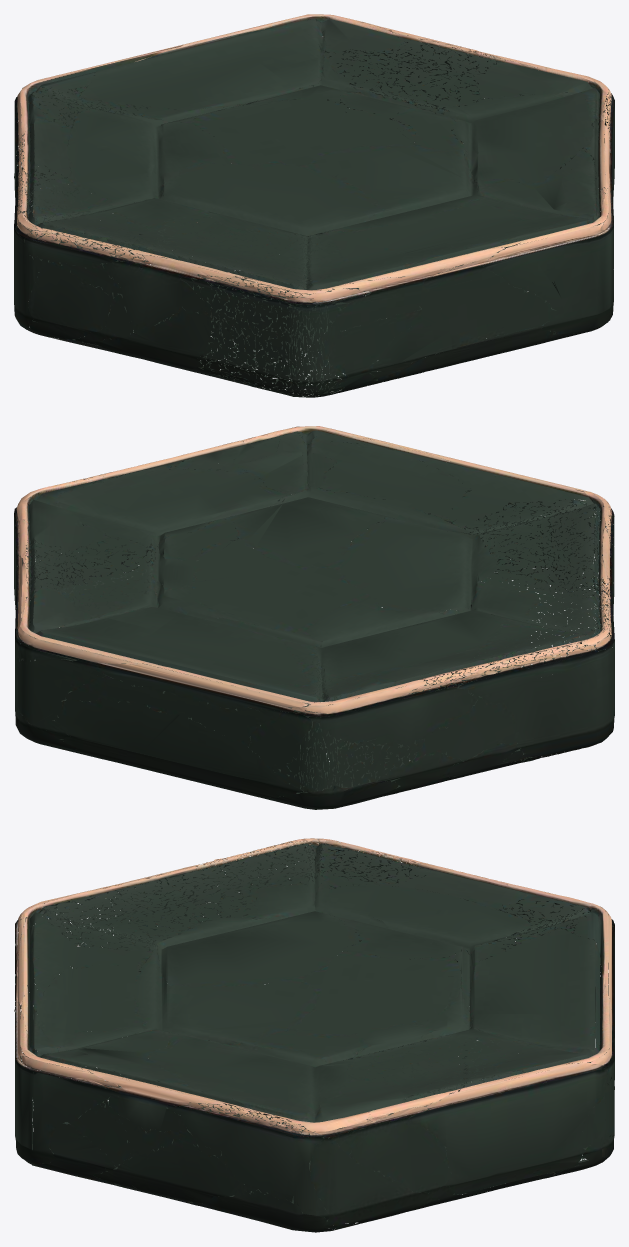
File: data-wafer-d-smoked-approval.glb
The picture shows the model from 3 angles, top to bottom: view 1: azimuth 30°, elevation 25°; view 2: azimuth 150°, elevation 25°; view 3: azimuth 270°, elevation 25°; orthographic projection.
Parts seen in each view (by area): view 1: wafer-d; view 2: wafer-d; view 3: wafer-d.
Part boxes in pixels (box(x1,y1,x2,y2)): wafer-d: box(14, 14, 614, 397); wafer-d: box(14, 426, 614, 809); wafer-d: box(14, 838, 614, 1232).
Size of the model in its own units: 2 by 0.3483 by 1.73.
1 material, 1 textured.
